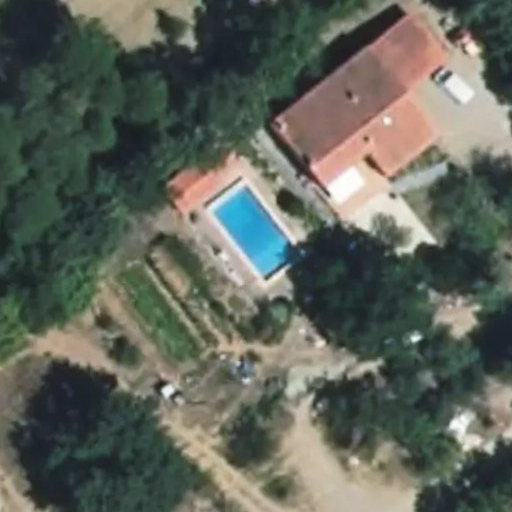pool: (208, 222, 303, 261)
